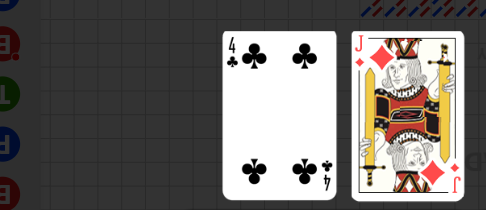4C: (226, 35, 240, 70), (319, 158, 333, 192)
